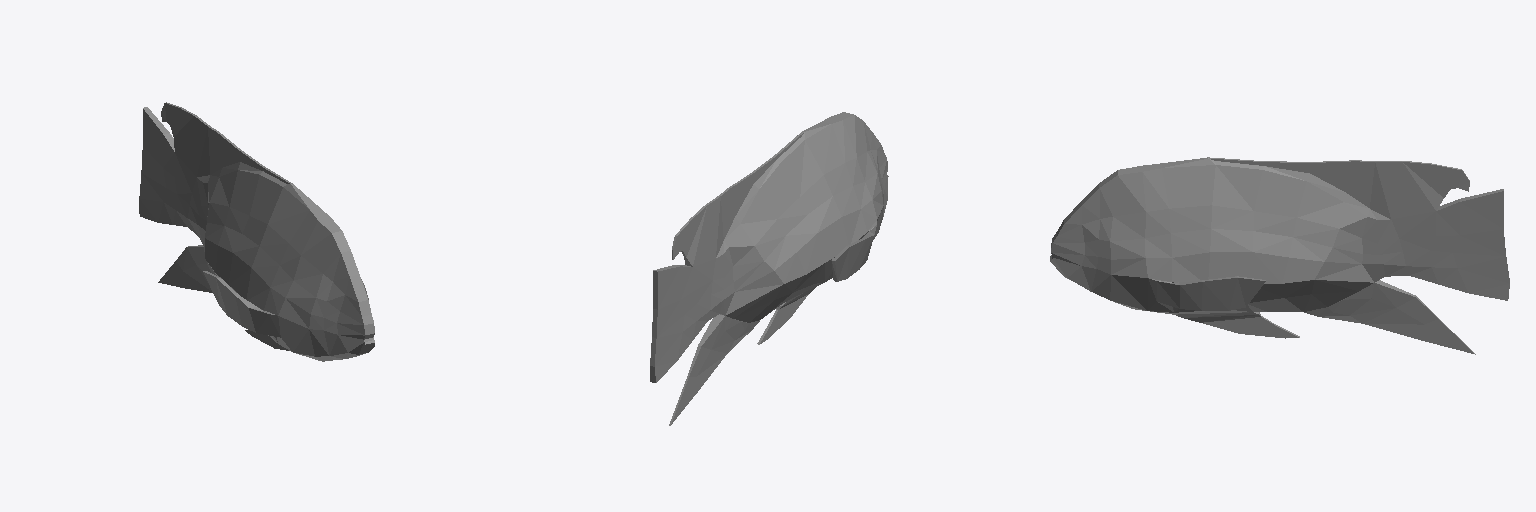
File: TropicalFish03.obj
The picture shows the model from 3 angles: view 1: azimuth 30°, elevation 25°; view 2: azimuth 150°, elevation 25°; view 3: azimuth 270°, elevation 25°; orthographic projection.
Visible parts, largest first — view 1: TropicalFish03; view 2: TropicalFish03; view 3: TropicalFish03.
Boxes of the visible parts, x1,y1,x2,y2 form: TropicalFish03: [139, 102, 374, 361]; TropicalFish03: [650, 112, 888, 425]; TropicalFish03: [1050, 157, 1509, 354].
Size of the model in its own units: 147 by 227 by 482.